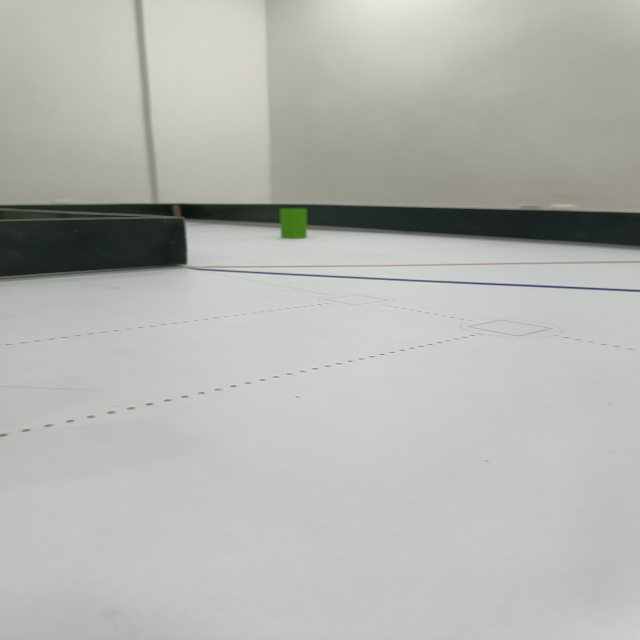blue line: (193, 269, 640, 292)
green rectangular prism: (275, 205, 313, 242)
orange line: (192, 259, 639, 275)
